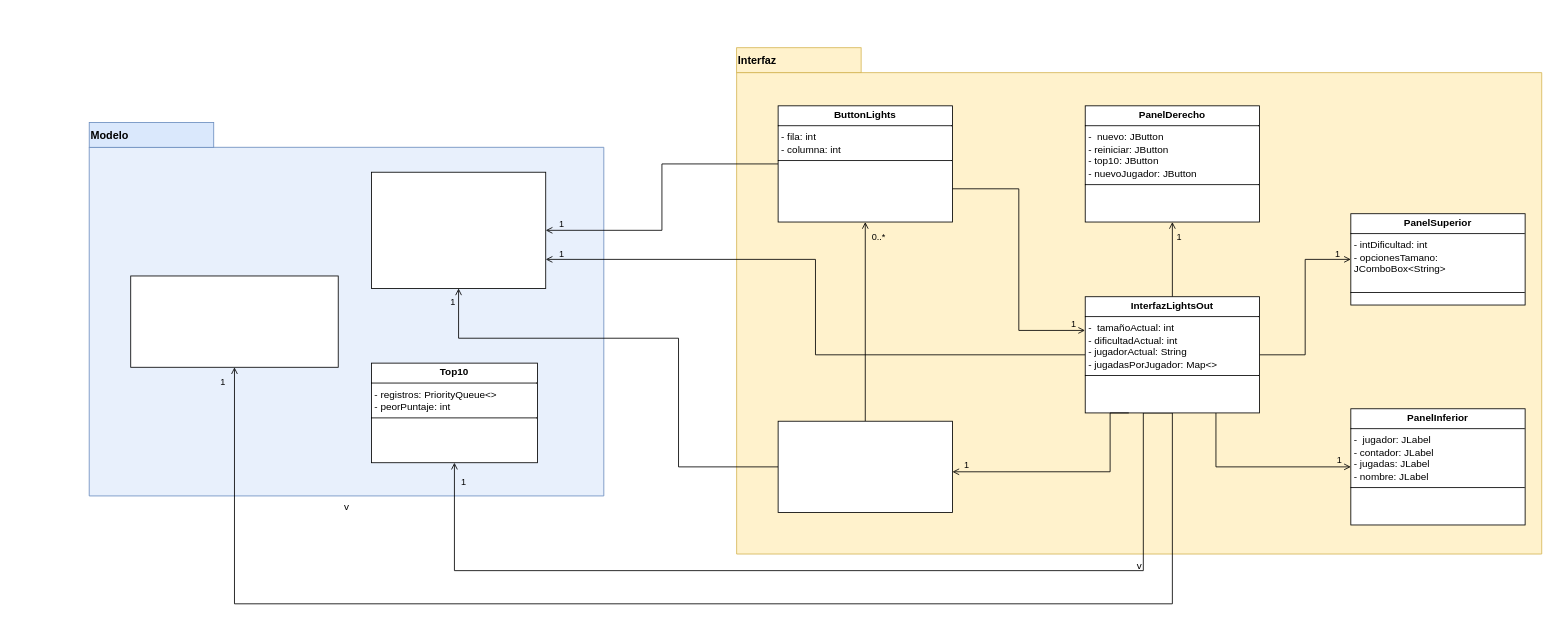
This 1556x625 diagram has some shape labels left out. Each missing label, with the centre of its shape:
"PanelLightsOut" goes at [864,466].
"RegistroTop10 - nombre: String - puntos: int" goes at [234,321].
"Tablero - tablero: boolean [] [] - tablero_original: boolean [][] - jugadas: int" goes at [458,229].
